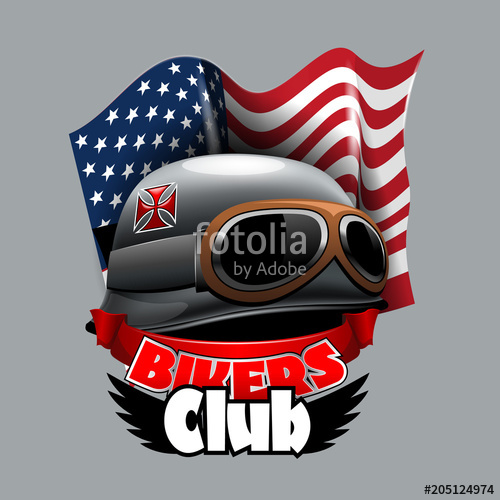with_helmet: (105, 156, 391, 316)
